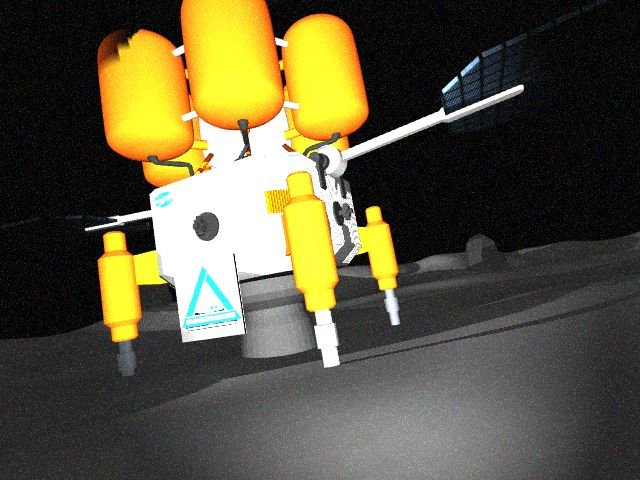basemarker: (181, 266, 242, 331)
